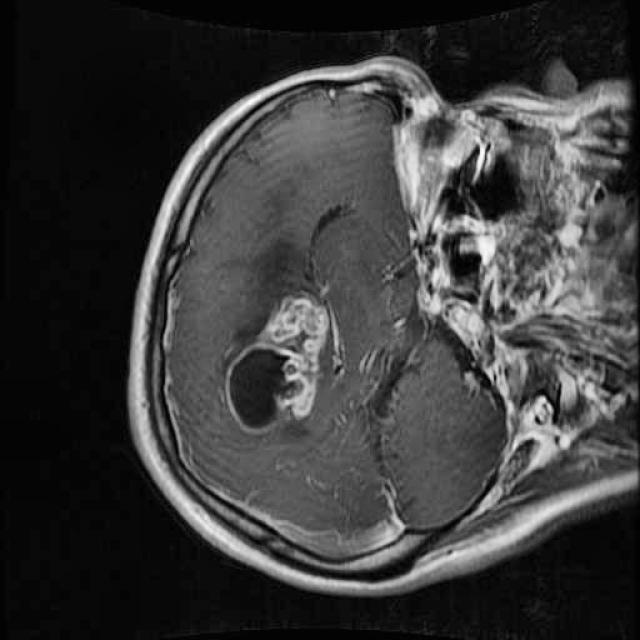Non-Tumor: (215, 285, 339, 439)
